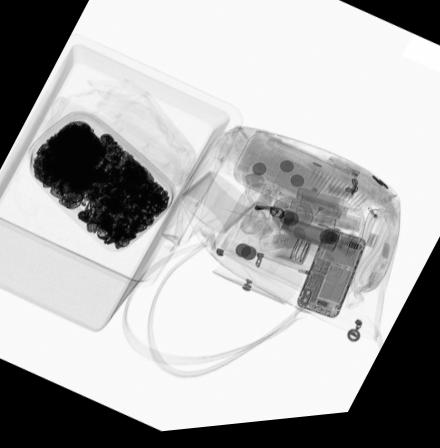Lighter: (324, 160, 362, 187)
